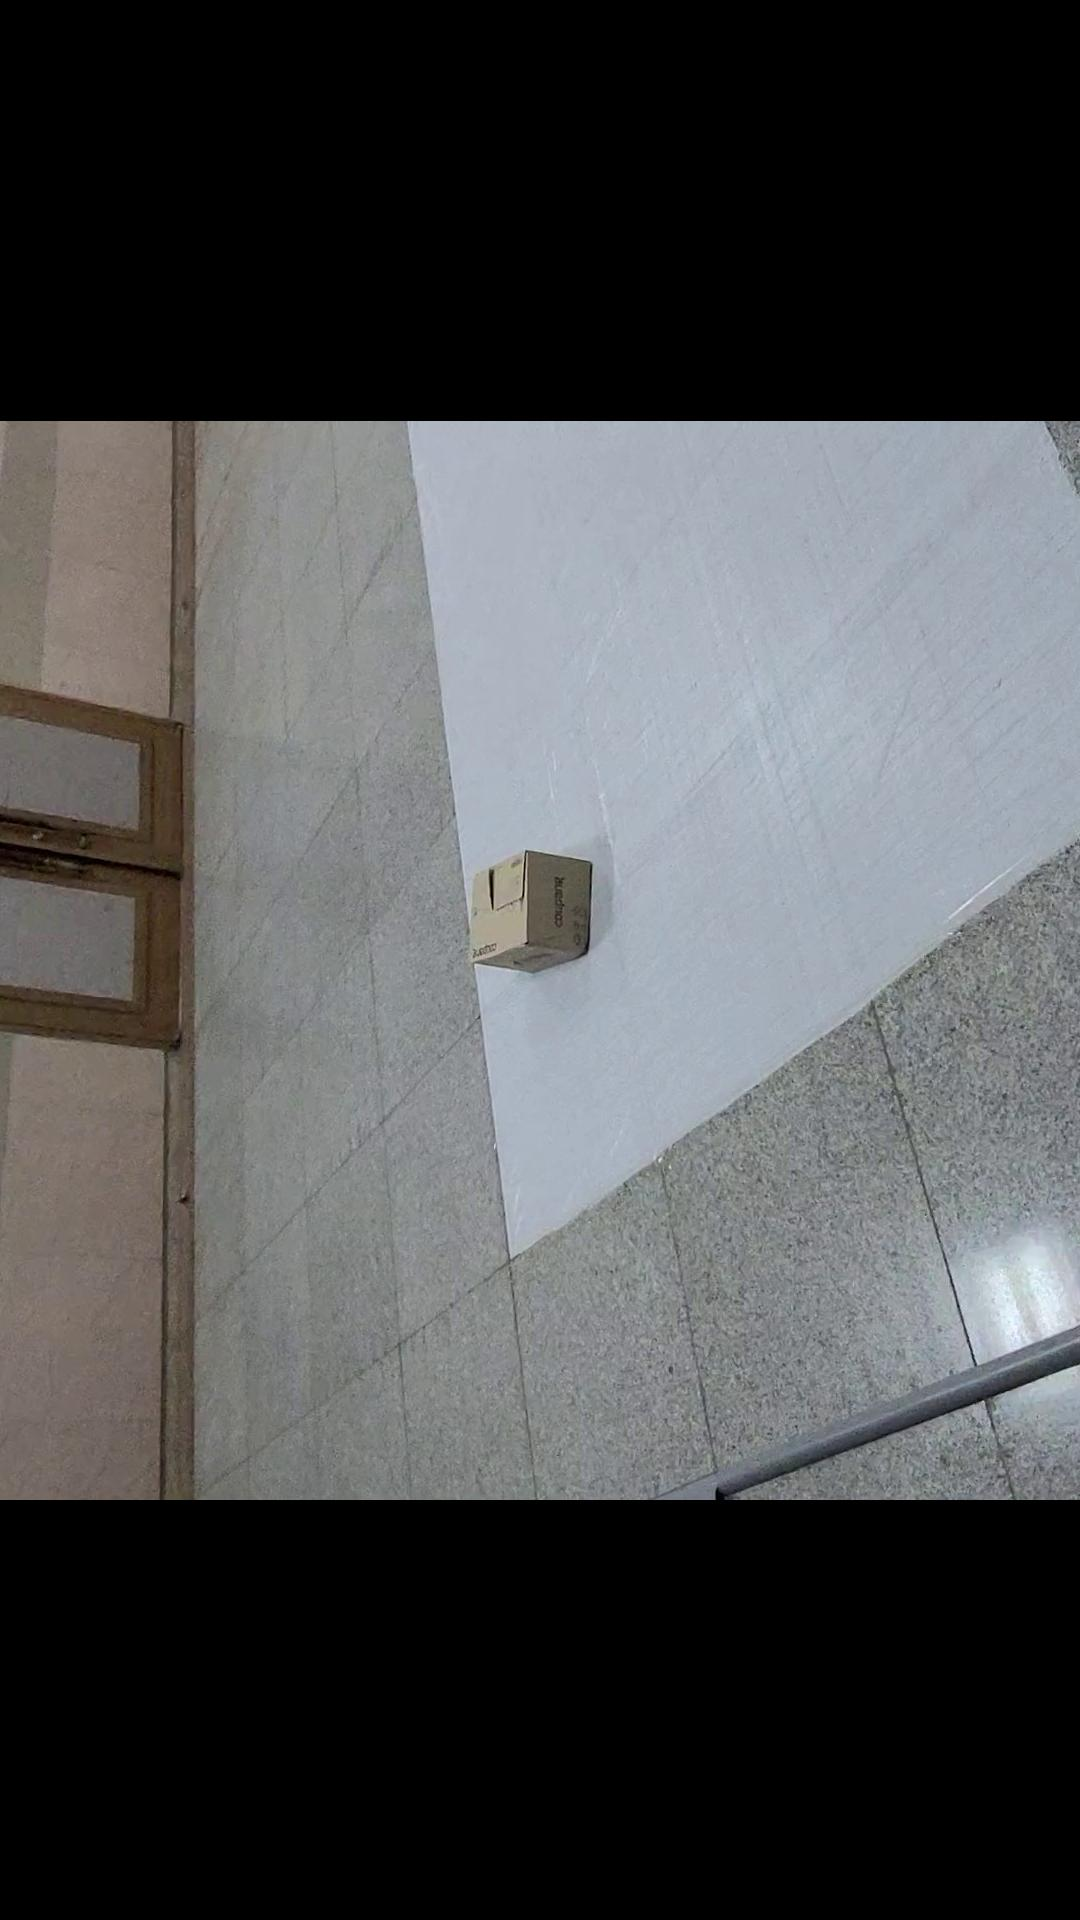Box: (444, 803, 620, 1007)
